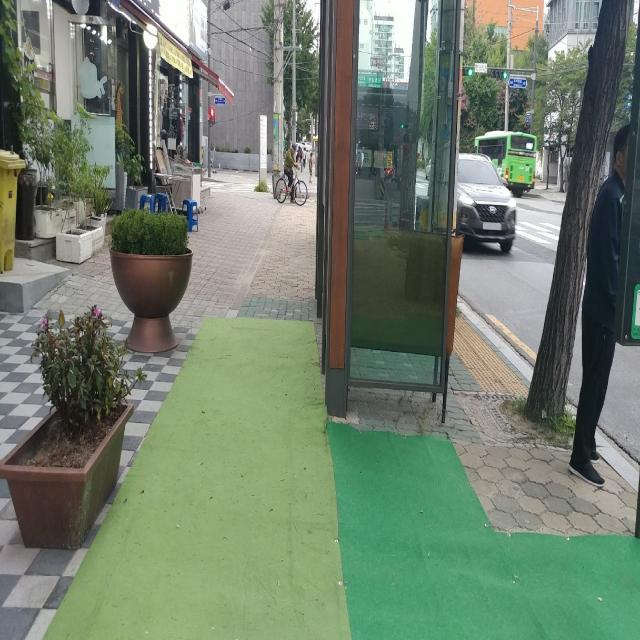횡단보도: (523, 223, 556, 243), (201, 181, 256, 192)
